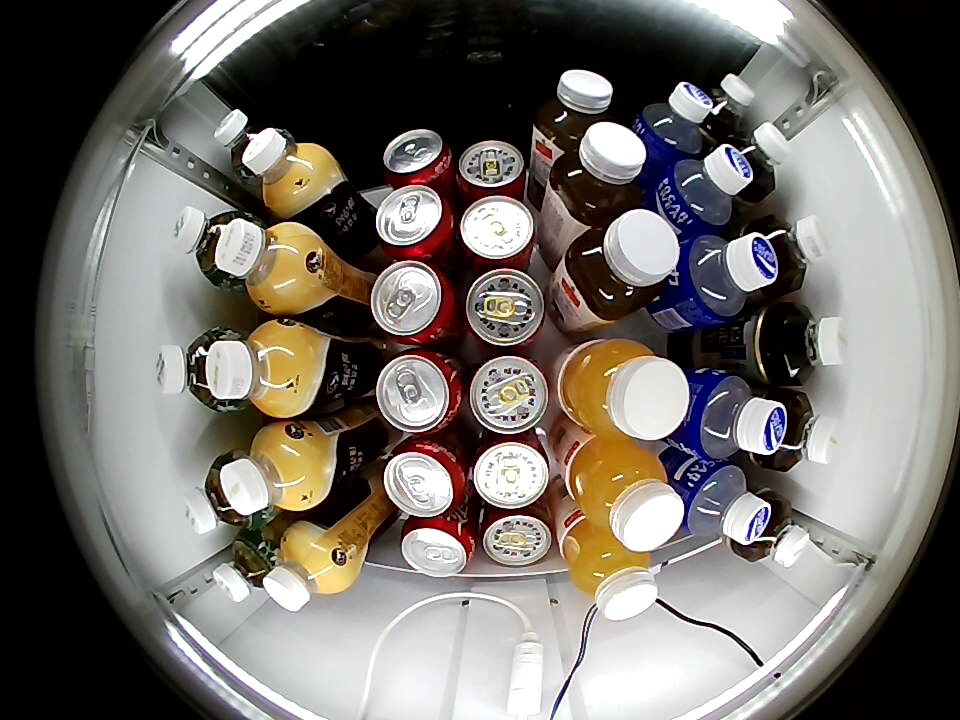asamu: (206, 321, 303, 416), (214, 218, 314, 309), (220, 426, 320, 515), (242, 128, 330, 208), (263, 532, 346, 612)
baokuangli: (683, 370, 789, 461), (676, 231, 779, 324), (658, 145, 754, 233), (679, 459, 771, 545), (633, 81, 712, 162)
chapai: (560, 209, 680, 322), (548, 122, 648, 225), (533, 69, 614, 153)
kele: (369, 259, 456, 346), (375, 349, 464, 434), (383, 438, 466, 518), (374, 185, 453, 260), (400, 517, 476, 577), (383, 129, 453, 186)
moliqingcha: (182, 454, 263, 534), (154, 326, 228, 412), (172, 206, 244, 284), (213, 529, 280, 603), (214, 108, 281, 179)
wangzainiunai: (467, 354, 550, 435), (464, 268, 547, 349), (470, 429, 551, 510), (456, 195, 539, 272), (479, 501, 555, 567), (455, 139, 530, 202)
weic: (556, 339, 690, 441), (566, 439, 685, 552), (561, 516, 659, 620)
wulongcha: (753, 214, 832, 292), (767, 390, 841, 472), (776, 303, 849, 384), (743, 497, 810, 568), (724, 120, 787, 193), (694, 73, 755, 140)
